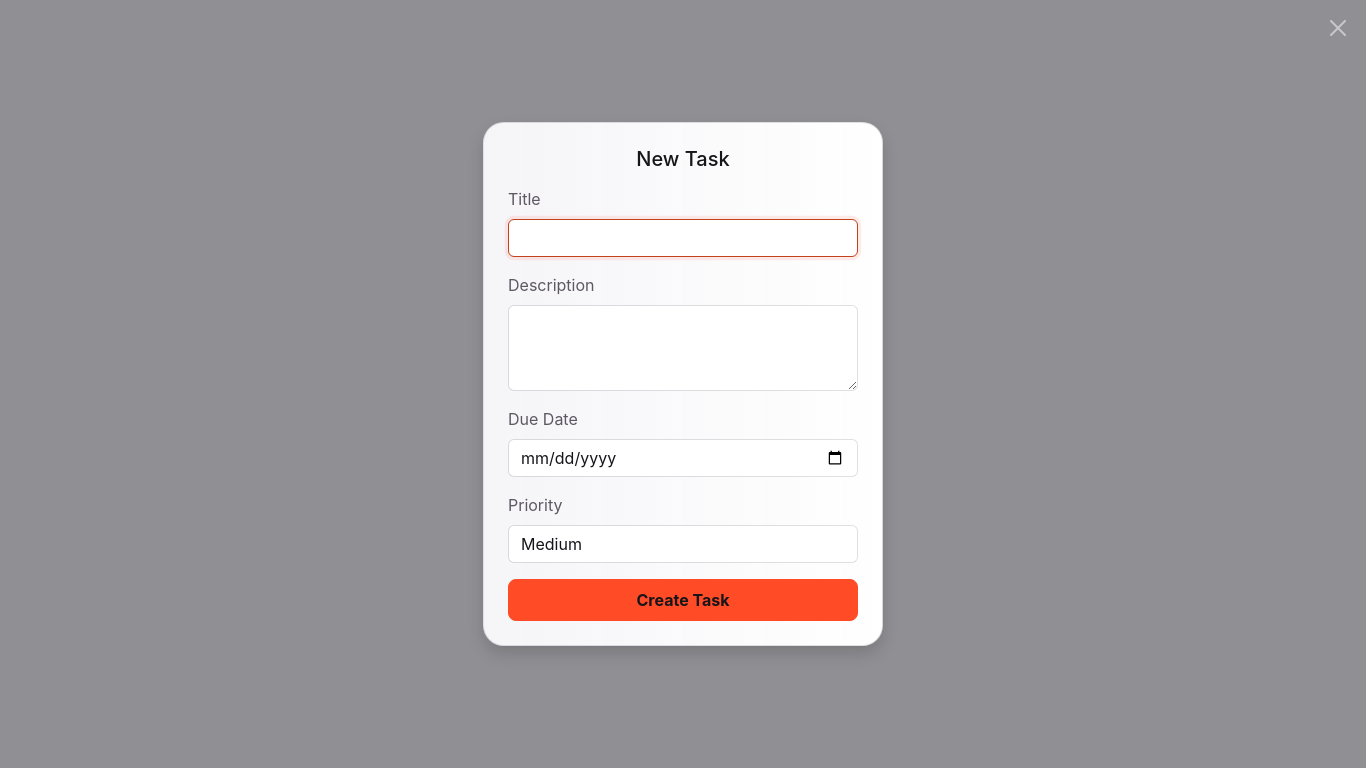
Test case: CreateTaskModal › shows a validation error when title is empty
Click the button "Create Task": (683, 600) [508,579,858,621]
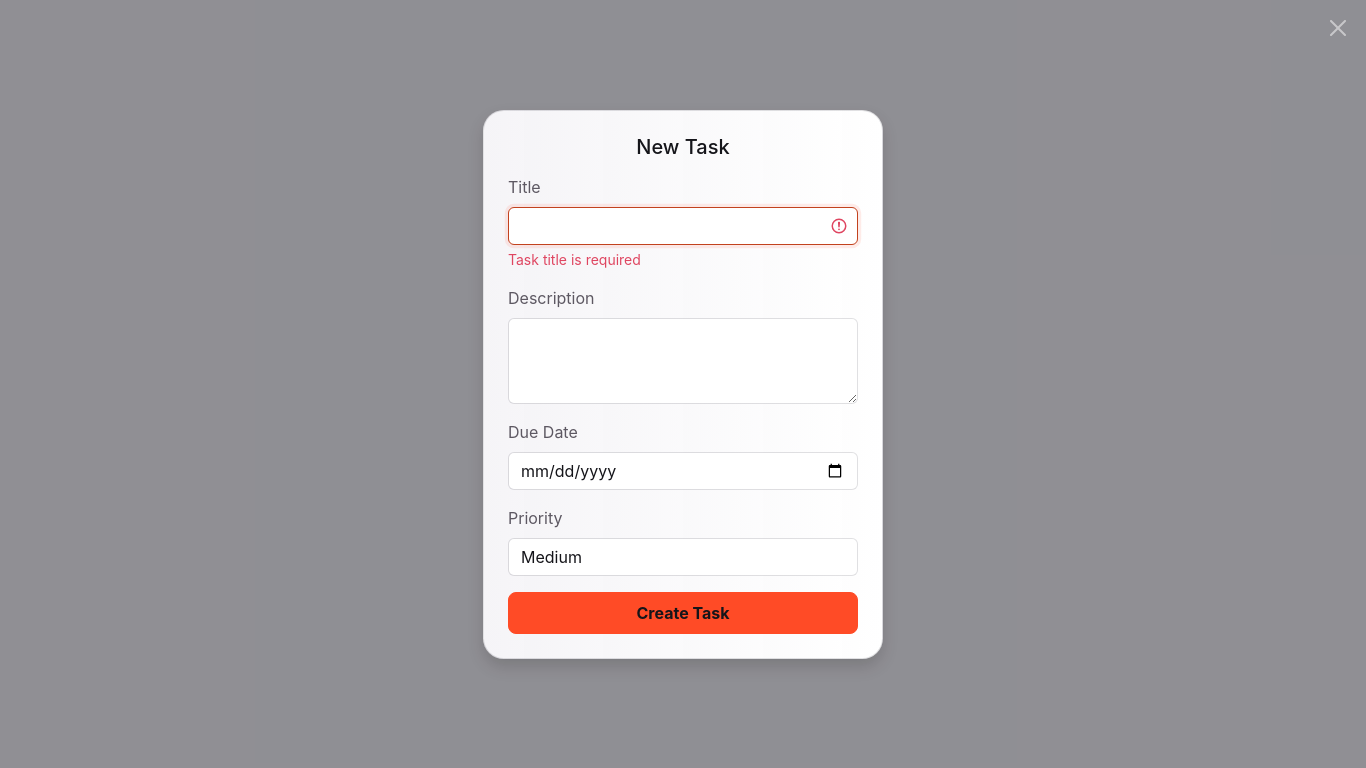
Check: the text "Task title is required" is shown, box [508,250,641,268]
